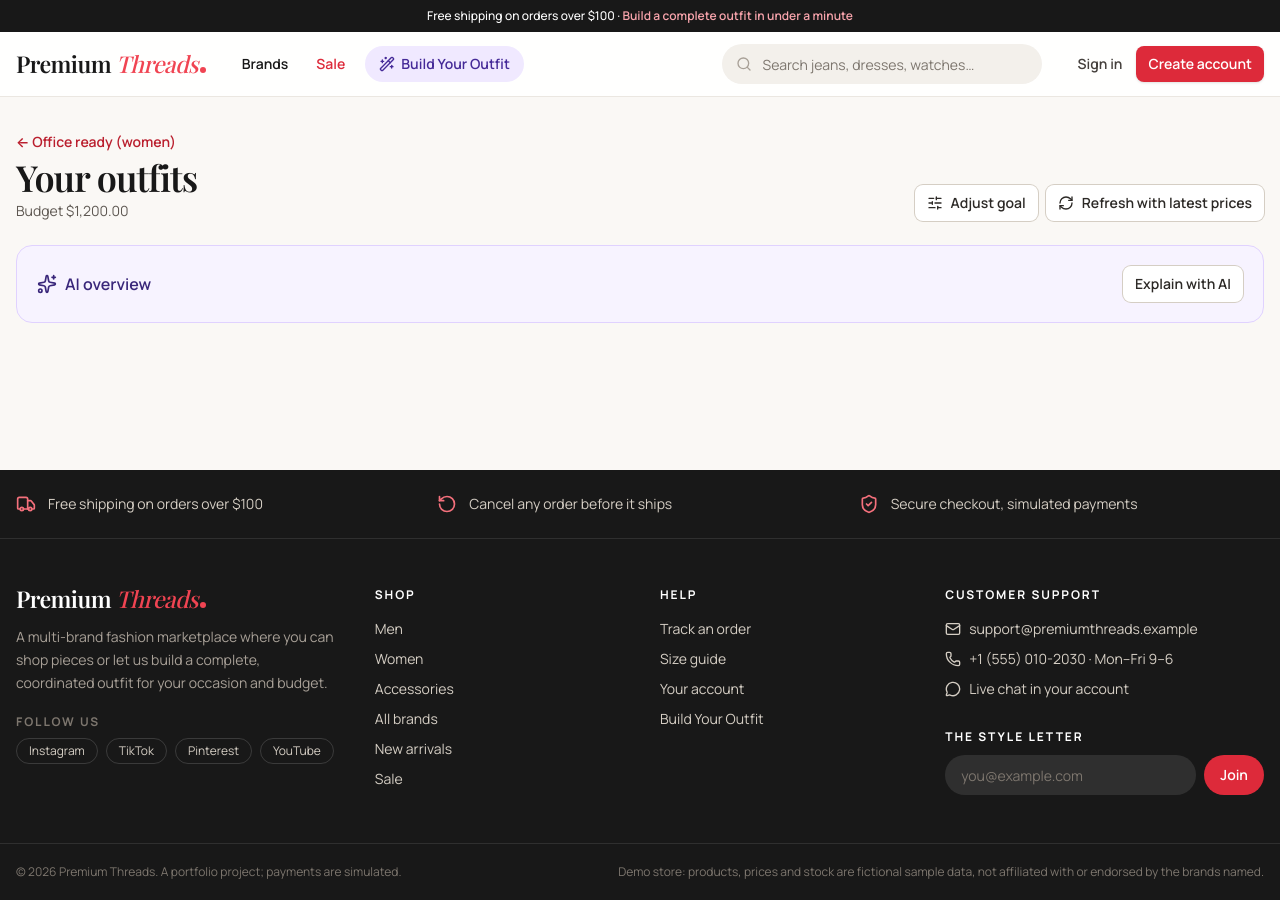
Test: AI assistance › writes an AI overview of the bundles on request
Click the button "Explain with AI": (1183, 284) [1123,266,1243,302]
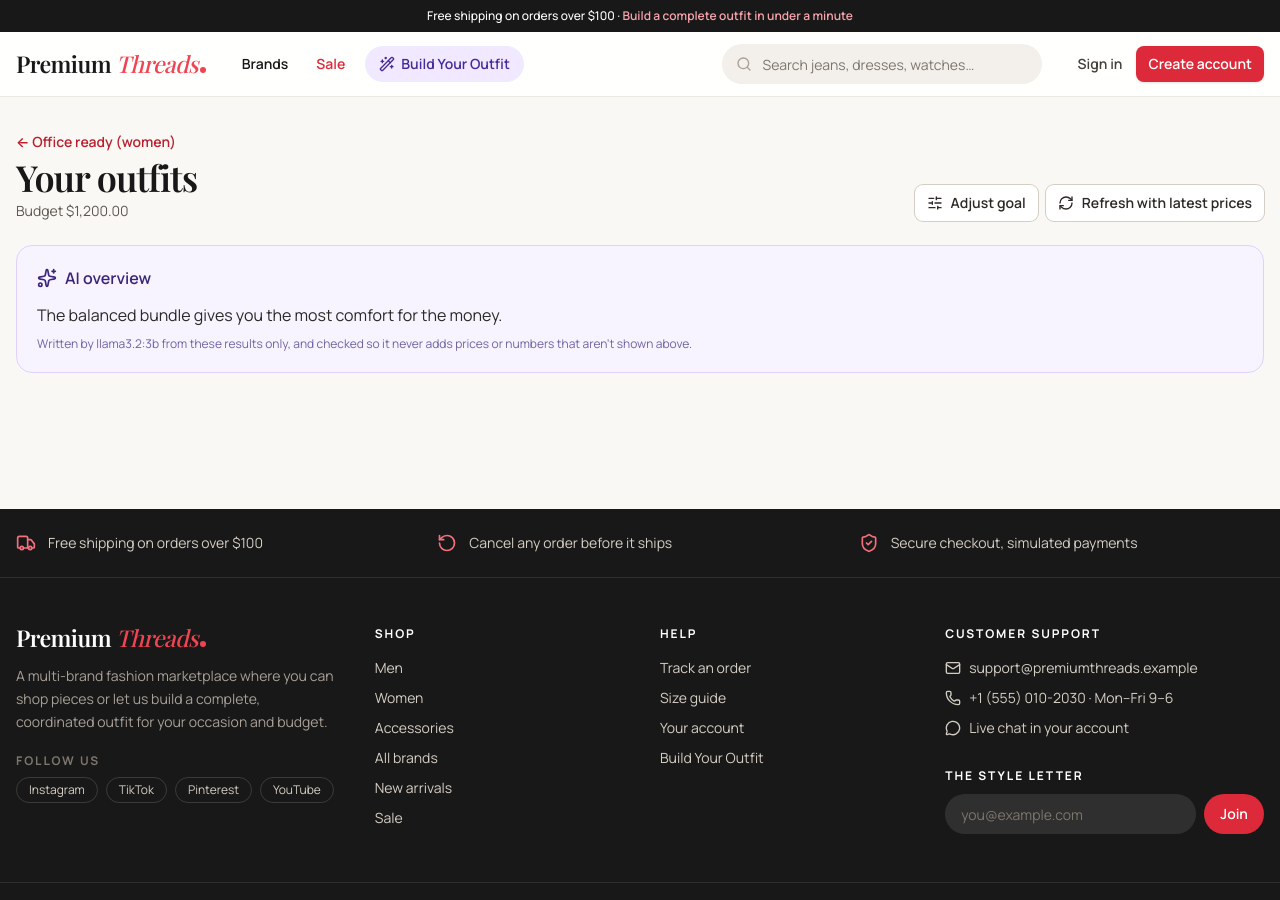
Now the text "The balanced bundle gives you the most comfort for the money." is shown, box [37,304,502,326]
Now the text "never adds prices or numbers" is shown, box [159,335,692,352]
Now the button "Explain with AI" is gone
